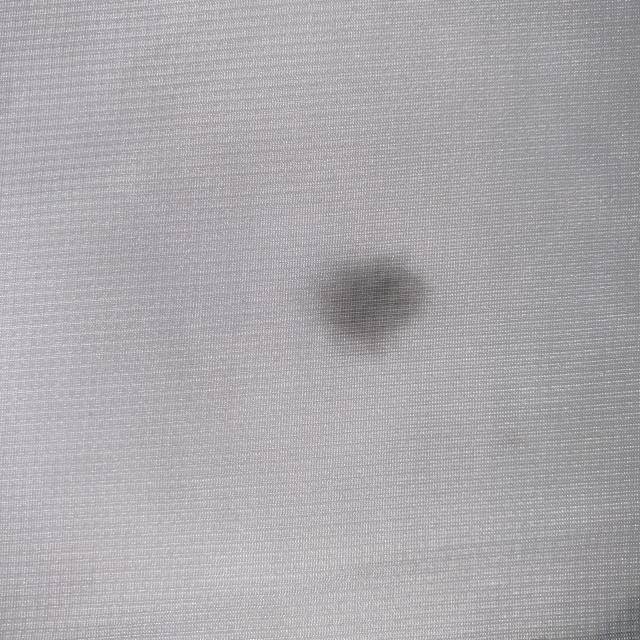Stain: (320, 262, 425, 347)
